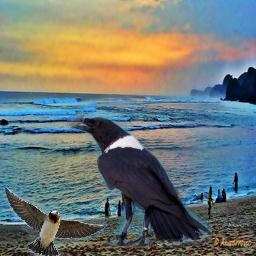Crow: (67, 115, 212, 248)
Swallow: (3, 185, 107, 256)
